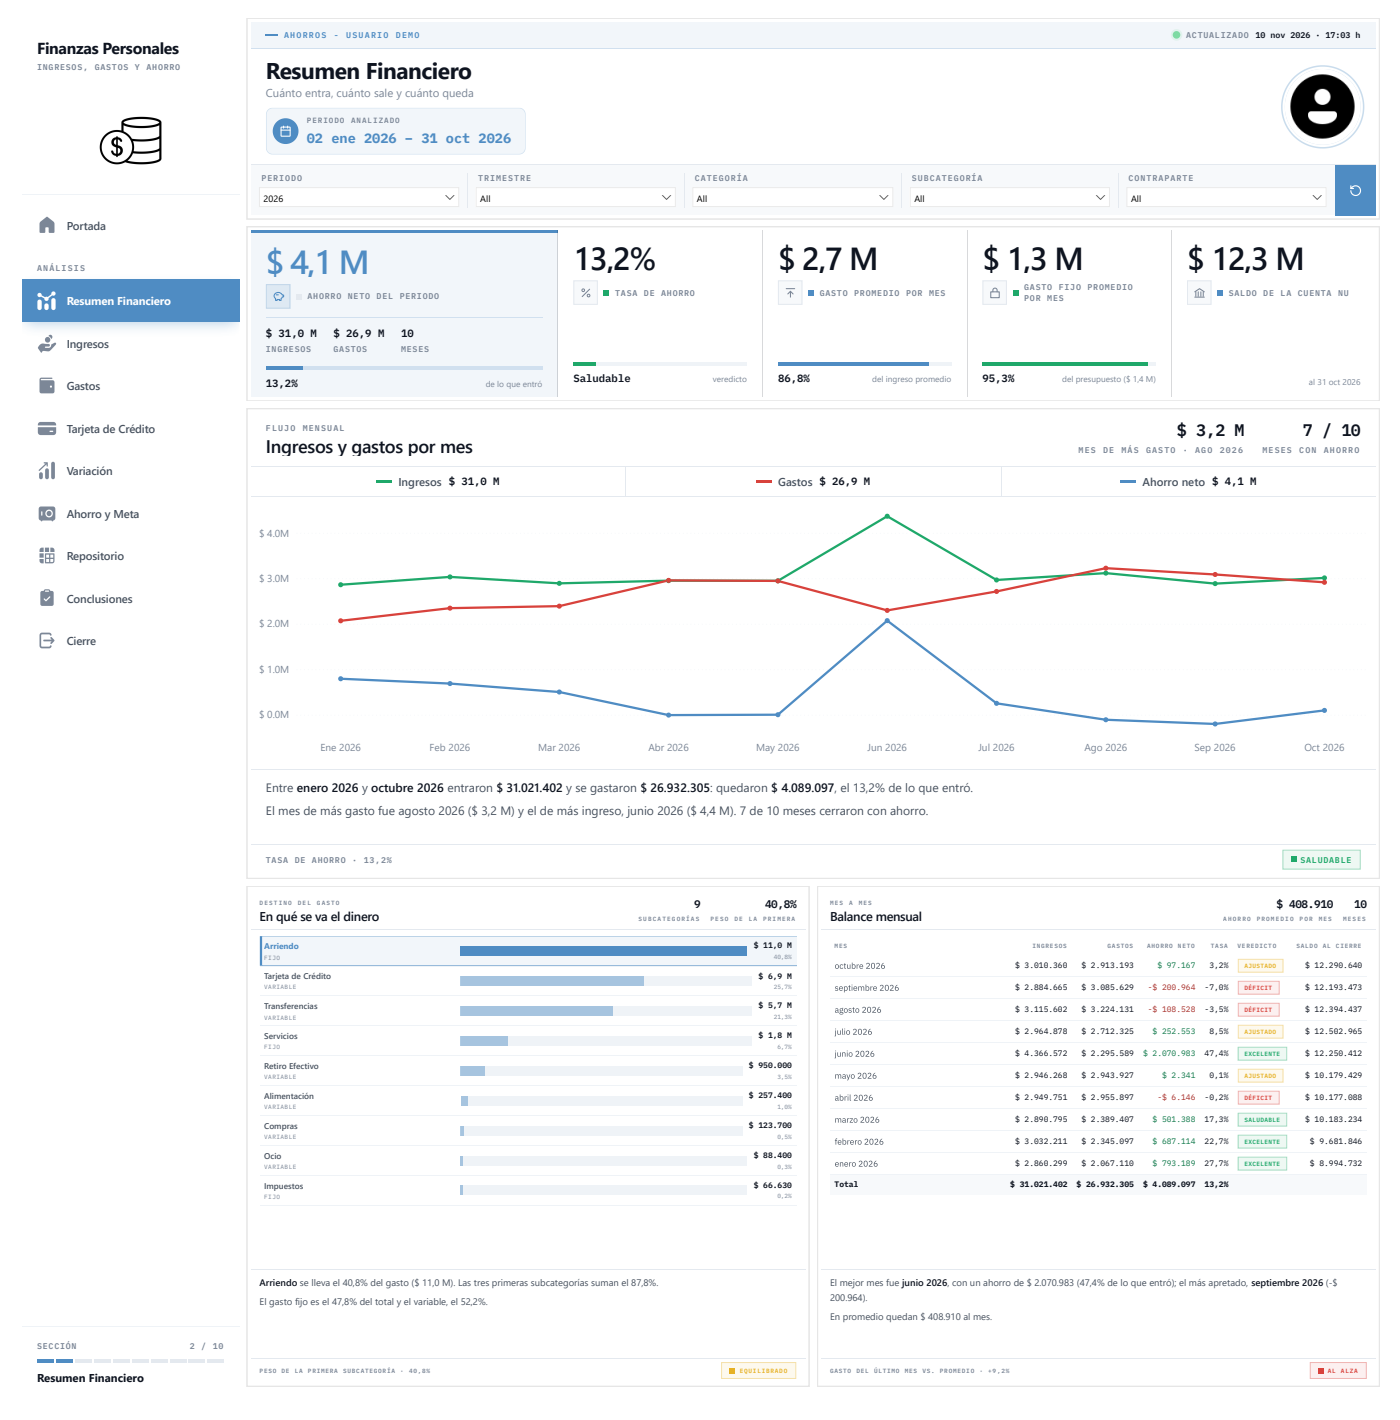

Layout of this report page (visuals, bound fields, positions):
{"tool":"powerbi","page":{"name":"Resumen Financiero","canvas":[1800,1825],"ordinal":1},"visuals":[{"type":"shape","title":"Contenedor","box":[302,0,1495,265],"z":1010},{"type":"shape","title":"Contenedor","box":[302,275,1495,230],"z":1020},{"type":"shape","title":"Contenedor","box":[302,515,1495,620],"z":1030},{"type":"shape","title":"Contenedor","box":[302,1145,742,660],"z":1040},{"type":"shape","title":"Contenedor","box":[1055,1145,742,660],"z":1050},{"type":"htmlContent443BE3AD55E043BF878BED274D3A6855","fields":{"content":["Medidas.NAV Rail Vertical HTML"]},"box":[0,0,297,1825],"z":2010},{"type":"htmlContent443BE3AD55E043BF878BED274D3A6855","fields":{"content":["Medidas.NAV Banner Filtros HTML"]},"box":[302,0,1495,265],"z":2020},{"type":"htmlContent443BE3AD55E043BF878BED274D3A6855","fields":{"content":["Medidas.RES KPI Cards HTML"]},"box":[302,275,1495,230],"z":2030},{"type":"htmlContent443BE3AD55E043BF878BED274D3A6855","fields":{"content":["Medidas.RES Flujo Mensual Marco HTML"]},"box":[302,515,1495,470],"z":2040},{"type":"htmlContent443BE3AD55E043BF878BED274D3A6855","fields":{"content":["Medidas.RES Flujo Mensual Texto HTML"]},"box":[302,985,1495,150],"z":2050},{"type":"htmlContent443BE3AD55E043BF878BED274D3A6855","fields":{"content":["Medidas.RES Gasto por Subcategoria HTML"]},"box":[302,1145,742,660],"z":2060},{"type":"htmlContent443BE3AD55E043BF878BED274D3A6855","fields":{"content":["Medidas.RES Balance Mensual HTML"]},"box":[1055,1145,742,660],"z":2070},{"type":"lineChart","fields":{"Category":["Calendario.Mes Año"],"Y":["Medidas.Serie Ingresos","Medidas.Serie Gastos","Medidas.Serie Ahorro Neto"]},"box":[312,635,1475,345],"z":3010},{"type":"slicer","fields":{"Values":["Calendario.Año","Calendario.Mes"]},"box":[308,212.9,284.2,58.6],"z":5010},{"type":"slicer","fields":{"Values":["Calendario.Trimestre Año"]},"box":[594.2,212.9,284.2,58.6],"z":5020},{"type":"slicer","fields":{"Values":["Categorias.Categoría"]},"box":[880.4,212.9,284.2,58.6],"z":5030},{"type":"slicer","fields":{"Values":["Categorias.Subcategoría"]},"box":[1166.6,212.9,284.2,58.6],"z":5040},{"type":"slicer","fields":{"Values":["Movimientos.Contraparte"]},"box":[1452.8,212.9,284.2,58.6],"z":5050},{"type":"shape","box":[0,0,297,245],"z":6010},{"type":"shape","box":[0,301,297,44],"z":6020},{"type":"shape","box":[0,849,297,976],"z":6030},{"type":"shape","box":[285,0,12,1825],"z":6040},{"type":"shape","box":[302,0,1495,193],"z":6050},{"type":"actionButton","box":[1738,193,54,67],"z":7010},{"type":"actionButton","box":[0,245,285,56],"z":7020},{"type":"actionButton","box":[0,345,285,56],"z":7030},{"type":"actionButton","box":[0,401,285,56],"z":7040},{"type":"actionButton","box":[0,457,285,56],"z":7050},{"type":"actionButton","box":[0,513,285,56],"z":7060},{"type":"actionButton","box":[0,569,285,56],"z":7070},{"type":"actionButton","box":[0,625,285,56],"z":7070},{"type":"actionButton","box":[0,681,285,56],"z":7080},{"type":"actionButton","box":[0,737,285,56],"z":7090},{"type":"actionButton","box":[0,793,285,56],"z":7100}]}

Visuals, with their boxes on the page's 1800x1825 design canvas (x1, y1, x2, y2). These are canvas units, not pixel positions in the 1400x1420 screenshot, which may show the page scaled, cropped or inside an application window:
"Contenedor" shape: (x1=302, y1=0, x2=1797, y2=265)
"Contenedor" shape: (x1=302, y1=275, x2=1797, y2=505)
"Contenedor" shape: (x1=302, y1=515, x2=1797, y2=1135)
"Contenedor" shape: (x1=302, y1=1145, x2=1044, y2=1805)
"Contenedor" shape: (x1=1055, y1=1145, x2=1797, y2=1805)
htmlContent443BE3AD55E043BF878BED274D3A6855 - Medidas.NAV Rail Vertical HTML: (x1=0, y1=0, x2=297, y2=1825)
htmlContent443BE3AD55E043BF878BED274D3A6855 - Medidas.NAV Banner Filtros HTML: (x1=302, y1=0, x2=1797, y2=265)
htmlContent443BE3AD55E043BF878BED274D3A6855 - Medidas.RES KPI Cards HTML: (x1=302, y1=275, x2=1797, y2=505)
htmlContent443BE3AD55E043BF878BED274D3A6855 - Medidas.RES Flujo Mensual Marco HTML: (x1=302, y1=515, x2=1797, y2=985)
htmlContent443BE3AD55E043BF878BED274D3A6855 - Medidas.RES Flujo Mensual Texto HTML: (x1=302, y1=985, x2=1797, y2=1135)
htmlContent443BE3AD55E043BF878BED274D3A6855 - Medidas.RES Gasto por Subcategoria HTML: (x1=302, y1=1145, x2=1044, y2=1805)
htmlContent443BE3AD55E043BF878BED274D3A6855 - Medidas.RES Balance Mensual HTML: (x1=1055, y1=1145, x2=1797, y2=1805)
lineChart - Calendario.Mes Año x Medidas.Serie Ingresos: (x1=312, y1=635, x2=1787, y2=980)
slicer - Calendario.Año x Calendario.Mes: (x1=308, y1=213, x2=592, y2=272)
slicer - Calendario.Trimestre Año: (x1=594, y1=213, x2=878, y2=272)
slicer - Categorias.Categoría: (x1=880, y1=213, x2=1165, y2=272)
slicer - Categorias.Subcategoría: (x1=1167, y1=213, x2=1451, y2=272)
slicer - Movimientos.Contraparte: (x1=1453, y1=213, x2=1737, y2=272)
shape: (x1=0, y1=0, x2=297, y2=245)
shape: (x1=0, y1=301, x2=297, y2=345)
shape: (x1=0, y1=849, x2=297, y2=1825)
shape: (x1=285, y1=0, x2=297, y2=1825)
shape: (x1=302, y1=0, x2=1797, y2=193)
actionButton: (x1=1738, y1=193, x2=1792, y2=260)
actionButton: (x1=0, y1=245, x2=285, y2=301)
actionButton: (x1=0, y1=345, x2=285, y2=401)
actionButton: (x1=0, y1=401, x2=285, y2=457)
actionButton: (x1=0, y1=457, x2=285, y2=513)
actionButton: (x1=0, y1=513, x2=285, y2=569)
actionButton: (x1=0, y1=569, x2=285, y2=625)
actionButton: (x1=0, y1=625, x2=285, y2=681)
actionButton: (x1=0, y1=681, x2=285, y2=737)
actionButton: (x1=0, y1=737, x2=285, y2=793)
actionButton: (x1=0, y1=793, x2=285, y2=849)
